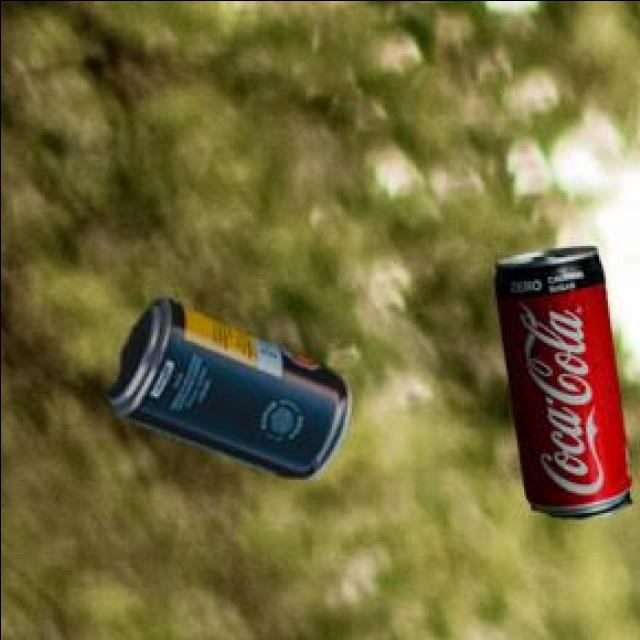logam: (105, 295, 348, 476), (491, 244, 628, 515)
